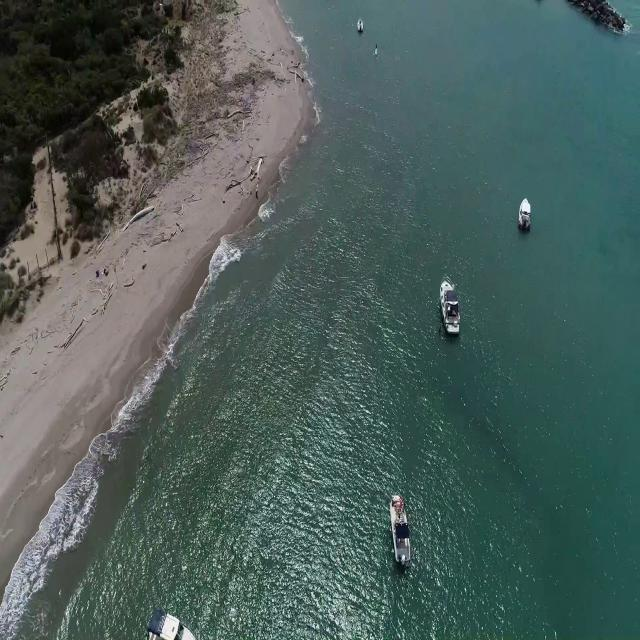boat: (391, 490, 414, 569), (150, 609, 197, 640), (441, 275, 464, 338), (520, 199, 535, 235), (356, 17, 365, 34)
person: (376, 40, 382, 52)
surfboard: (374, 48, 381, 61)
wood: (225, 156, 267, 201)
